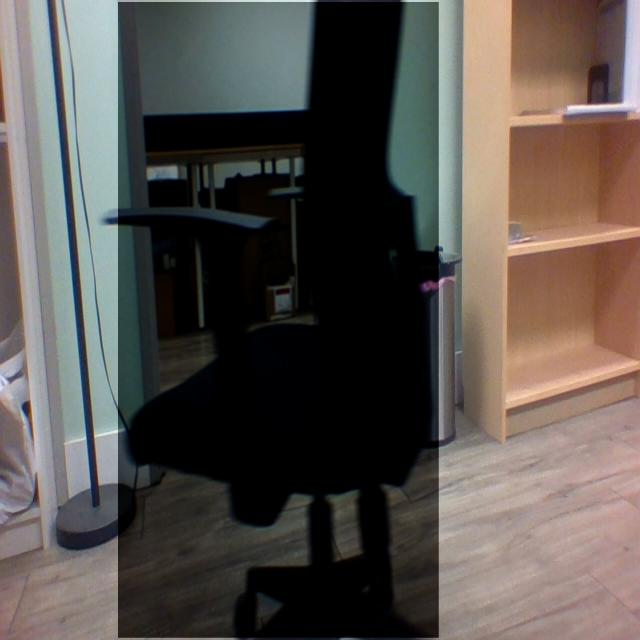black-chair: (118, 2, 440, 639)
